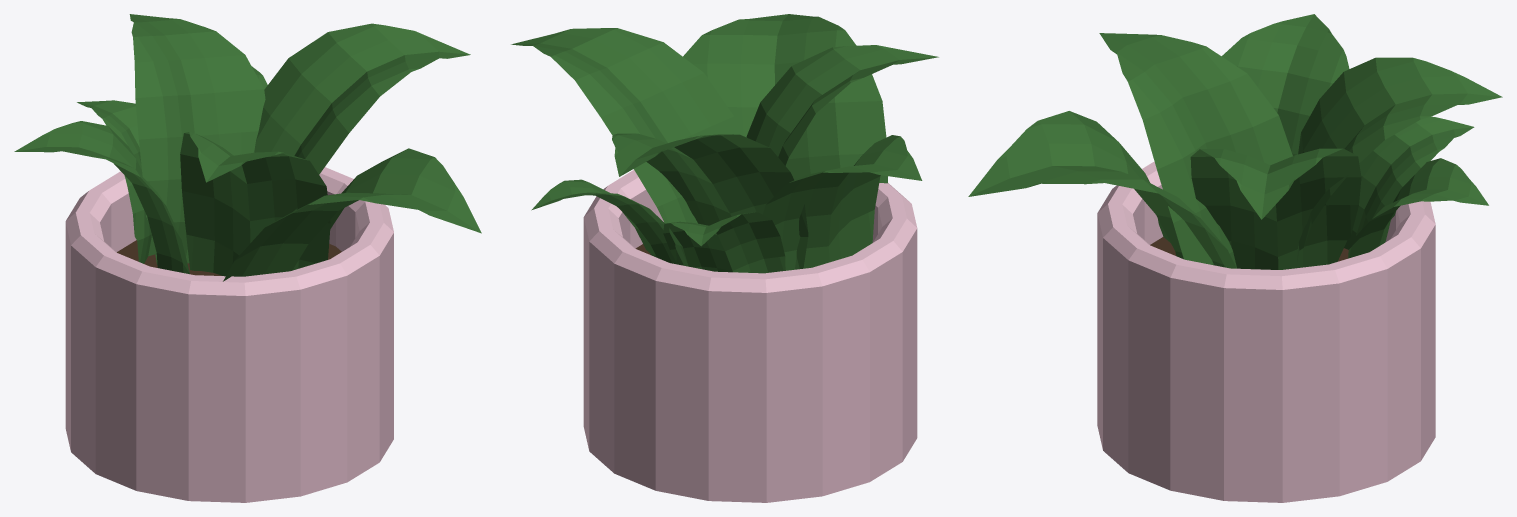
Rendered from pottedplant.glb.
3 views of the same model, side by side, from view 1: azimuth 30°, elevation 25°; view 2: azimuth 150°, elevation 25°; view 3: azimuth 270°, elevation 25° (orthographic). The views are drawn at different scales.
Visible parts, largest first — view 1: pottedplant; view 2: pottedplant; view 3: pottedplant.
Boxes of the visible parts, x1,y1,x2,y2 form: pottedplant: (14,14,481,502); pottedplant: (511,14,938,502); pottedplant: (968,14,1502,502).
Bounding box in the file's own units: 0.393 × 0.3052 × 0.4098.
